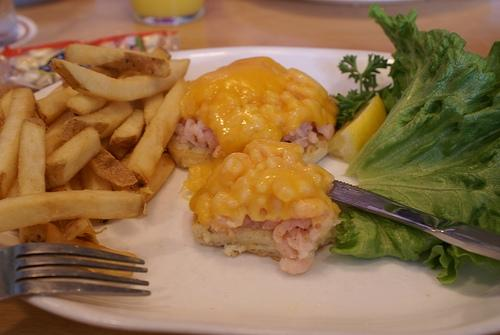lemon: (328, 93, 387, 163)
lettuce: (329, 0, 500, 283)
